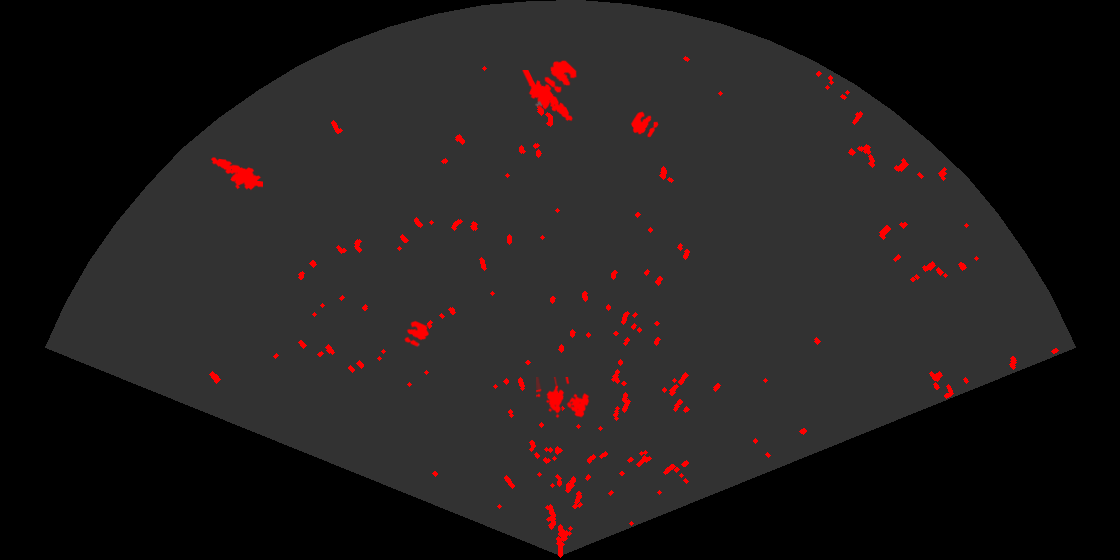ball: (543, 59, 579, 95), (629, 110, 660, 139), (403, 319, 431, 349)
cage: (536, 377, 591, 420)
frogman: (521, 70, 574, 123), (209, 156, 263, 192)
